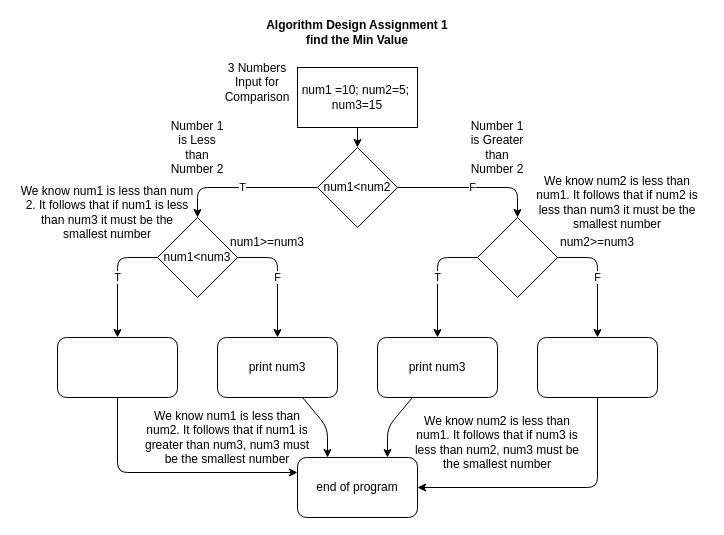
This 724x535 diagram has some shape labels left out. The centre of each missing label's shape, as x and y in pixels:
num2>num3: [517,257]
print num1: [117,367]
print num2: [597,367]
